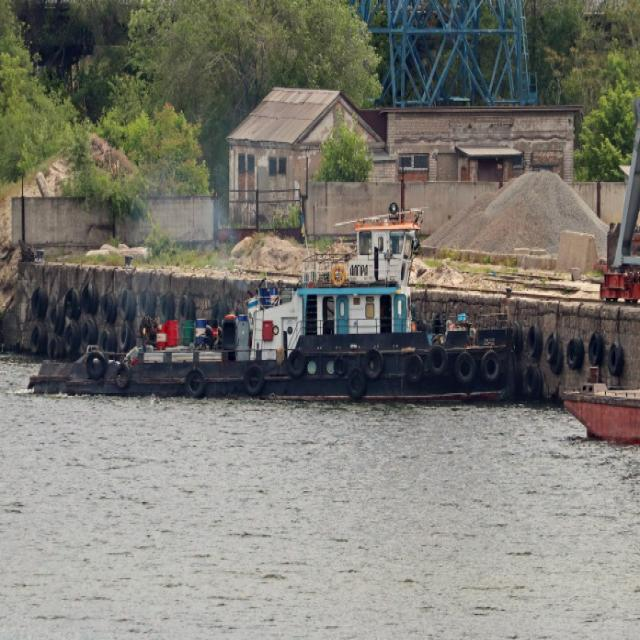tugboat: (26, 201, 520, 413)
